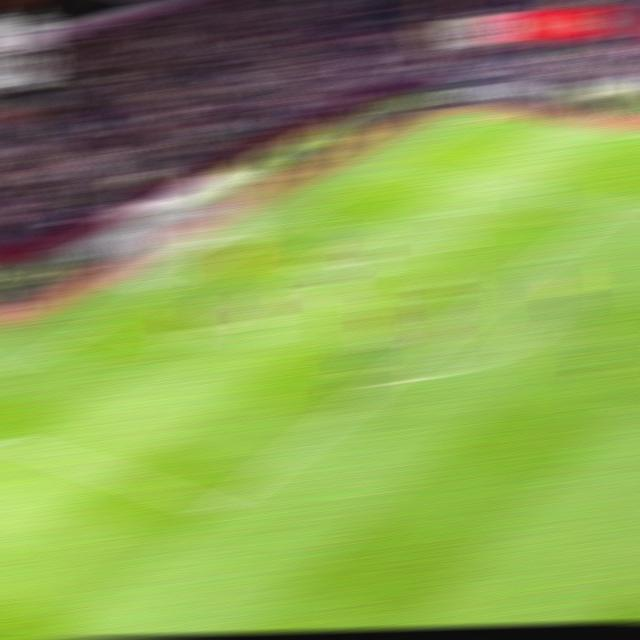bigarea_bottom_inner: (197, 492, 240, 522)
bigarea_top_inner: (598, 197, 634, 214)
bigarea_top_outter: (369, 160, 404, 175)
bottom_arc_area_intersection: (364, 374, 398, 390)
corner: (463, 108, 502, 121)
smallarea_bottom_outter: (78, 315, 116, 333)
smallarea_top_inner: (348, 224, 384, 240)
smallarea_top_outter: (278, 209, 314, 224)
top_arc_area_intersection: (504, 267, 540, 285)
